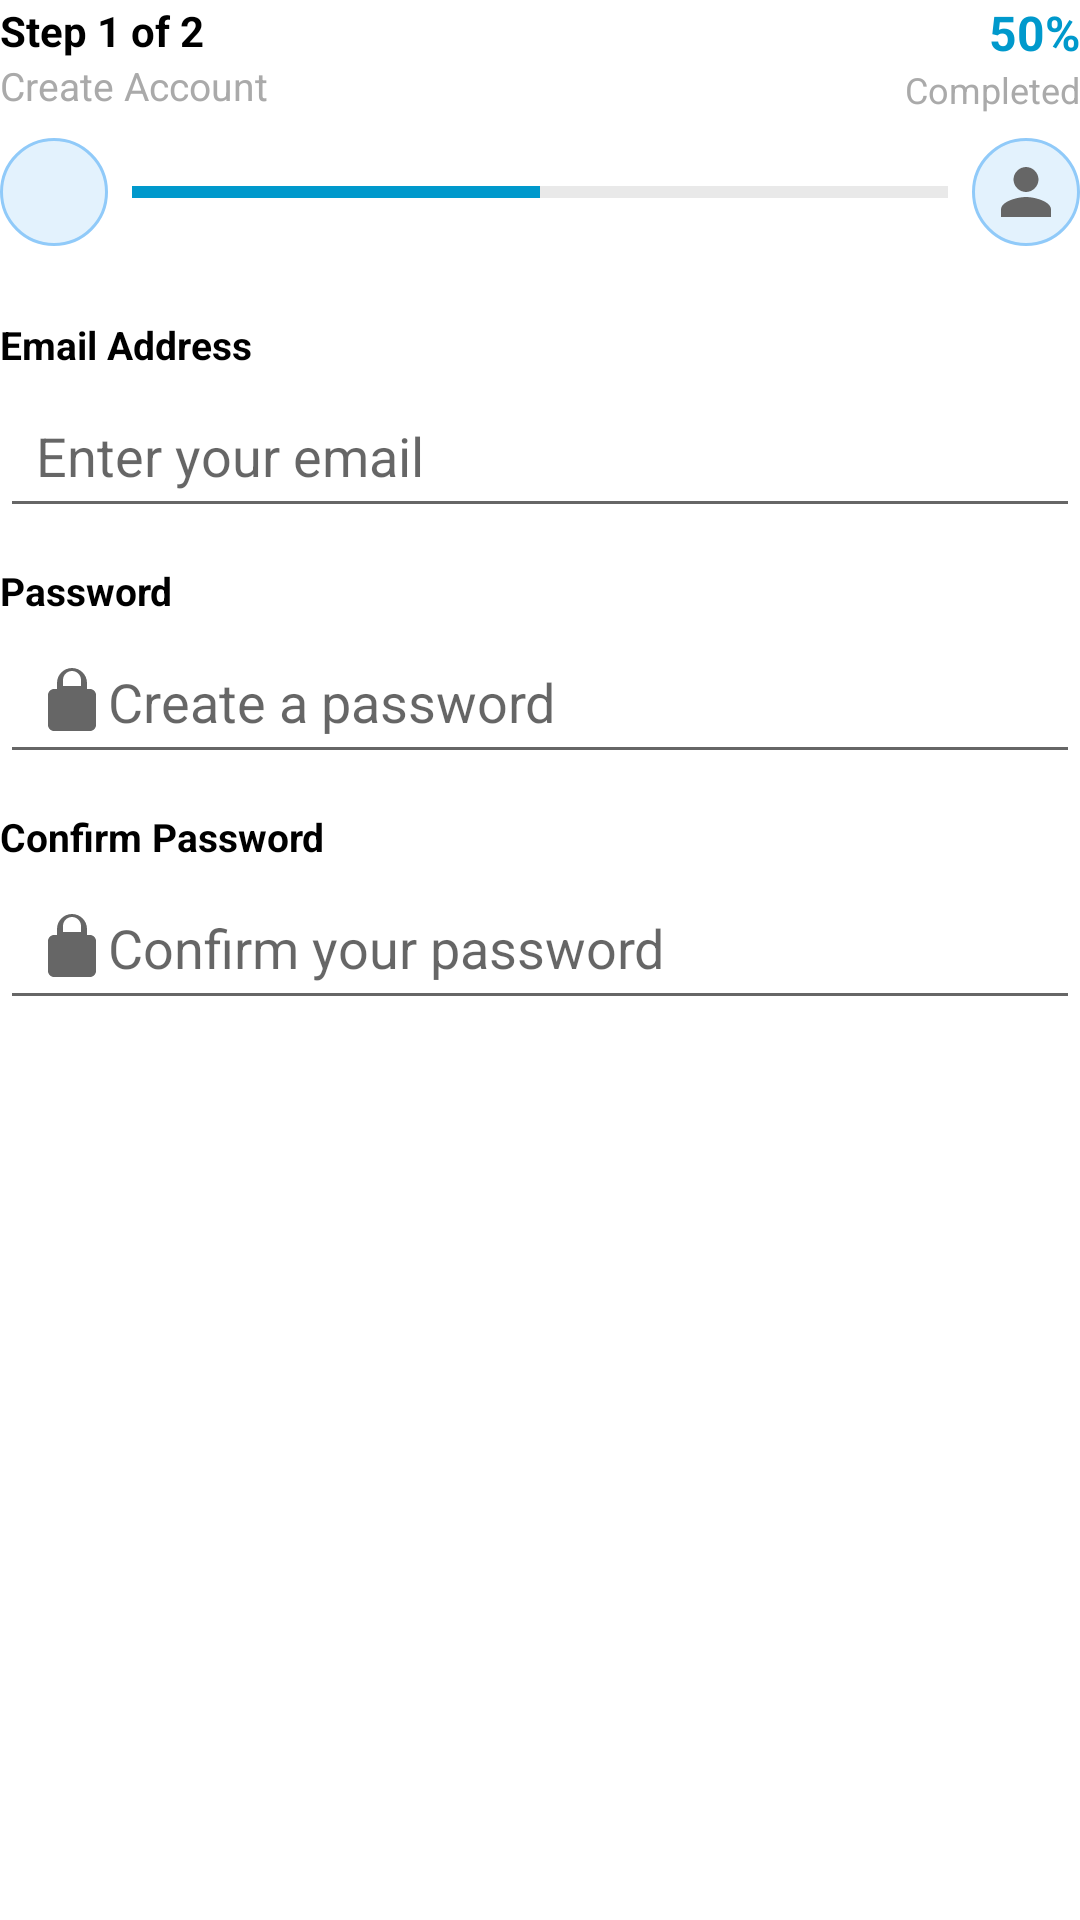

Named icons in this screenshot (1080×1920) and their bounding boxes, (x1, y1, x2, y2):
profile: (1001, 167, 1051, 217)
